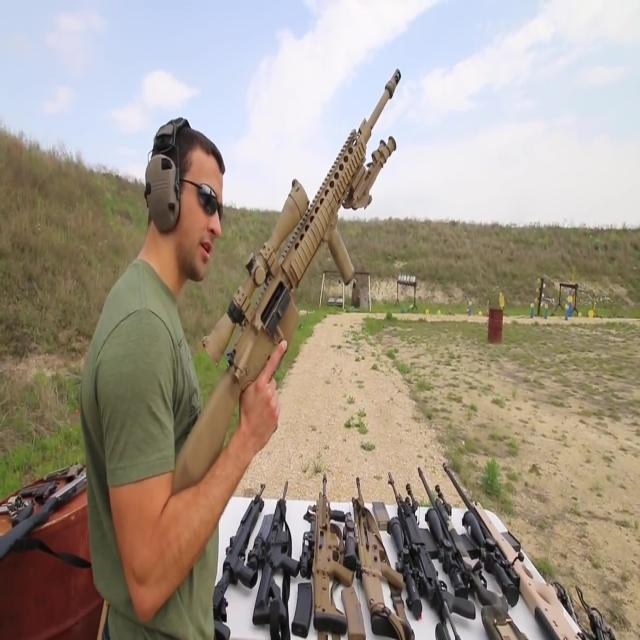Weapon: (151, 14, 424, 576), (199, 408, 589, 640), (0, 420, 167, 594)
